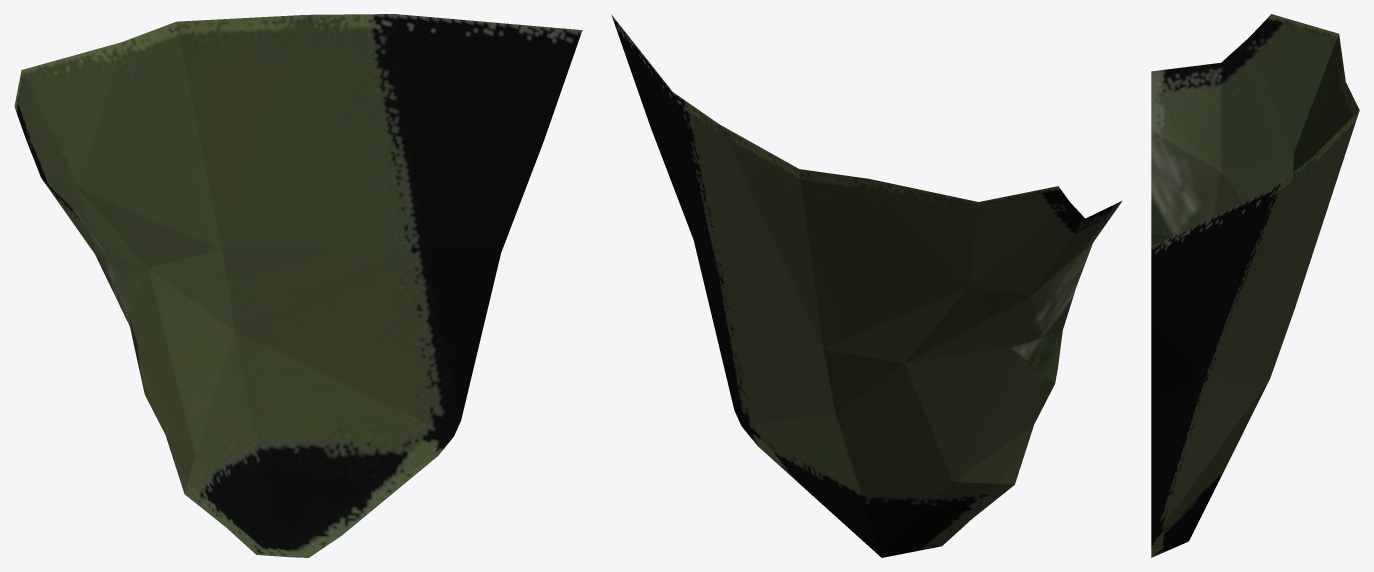
3 views of the same model, side by side, from view 1: azimuth 30°, elevation 25°; view 2: azimuth 150°, elevation 25°; view 3: azimuth 270°, elevation 25° (orthographic). The views are drawn at different scales.
Bounding box in the file's own units: 4.08 × 3.56 × 1.55.
Materials: 1 (1 with a texture image).
